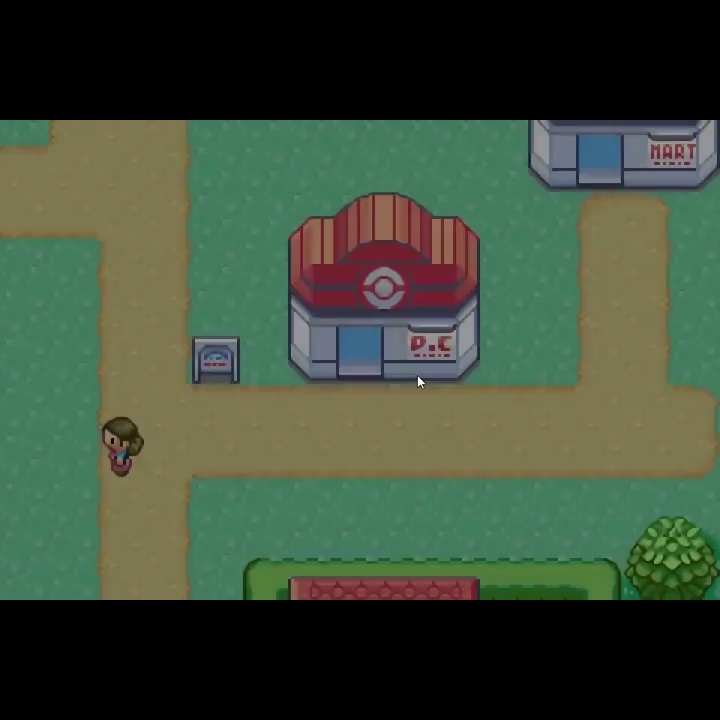npc: (100, 414, 147, 480)
pokecen: (285, 190, 484, 384)
pokemart: (523, 120, 720, 194)
wall: (623, 513, 720, 600)
